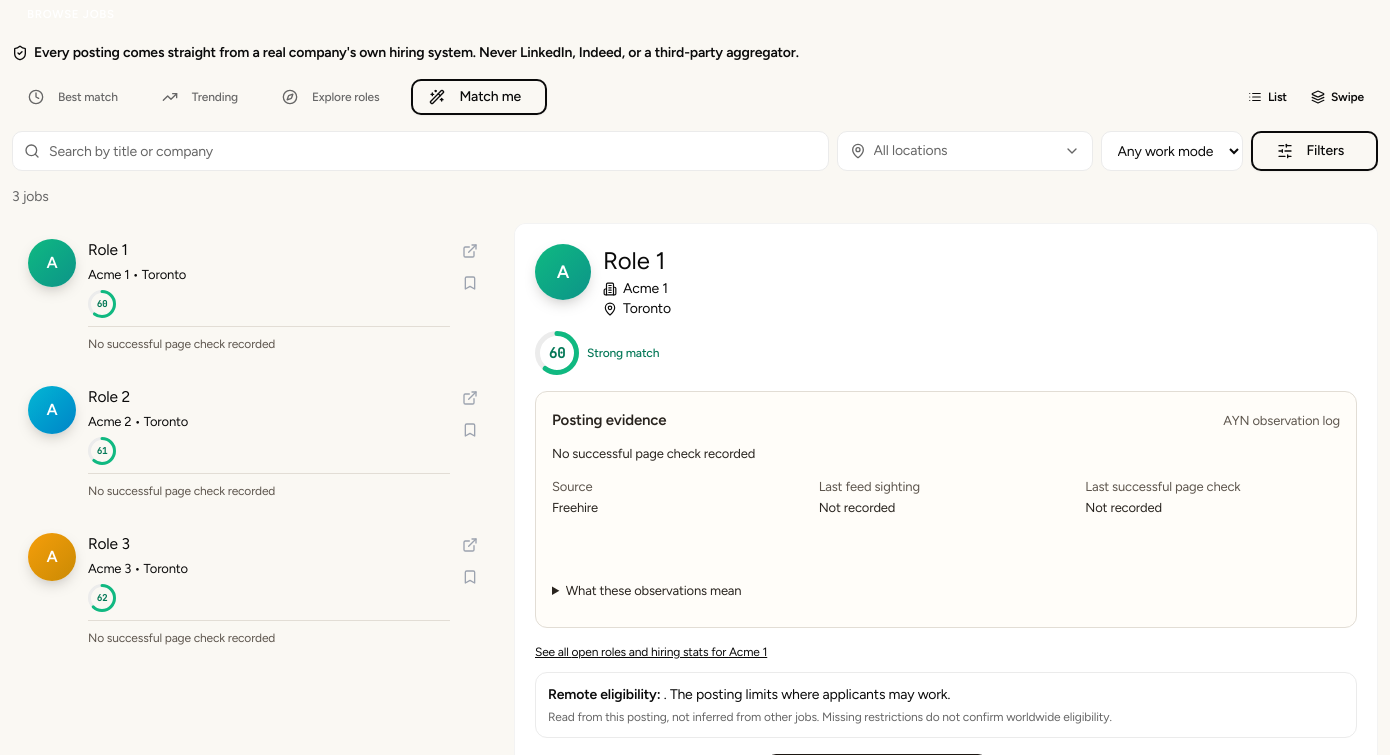
it: BrowseJobs list (real component, mocked backend) › location picker: opens, filters, and choosing a location re-queries with it
Click the button "All locations" at (964, 151), box [836,131,1092,171]
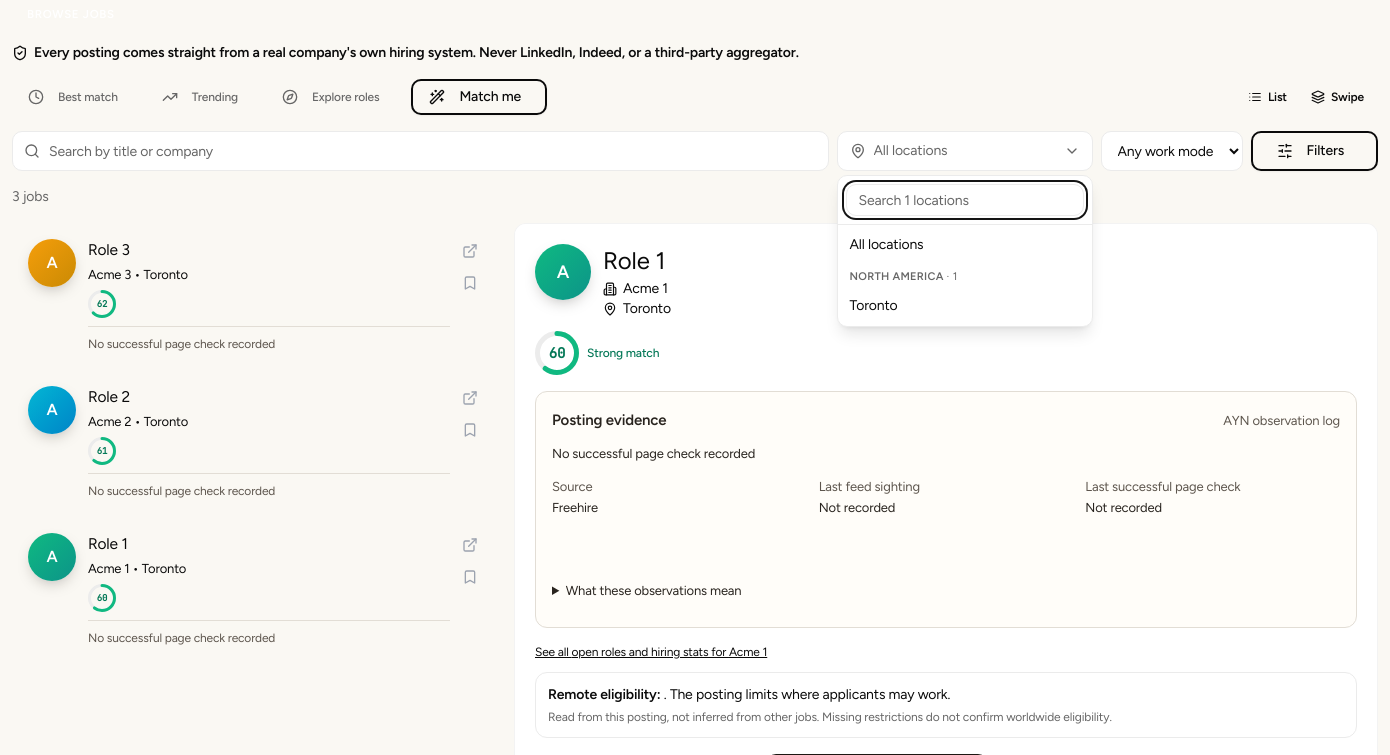
Type "nowhere" into the field with placeholder "Search 1 locations" at (964, 200), box [846,184,1084,216]
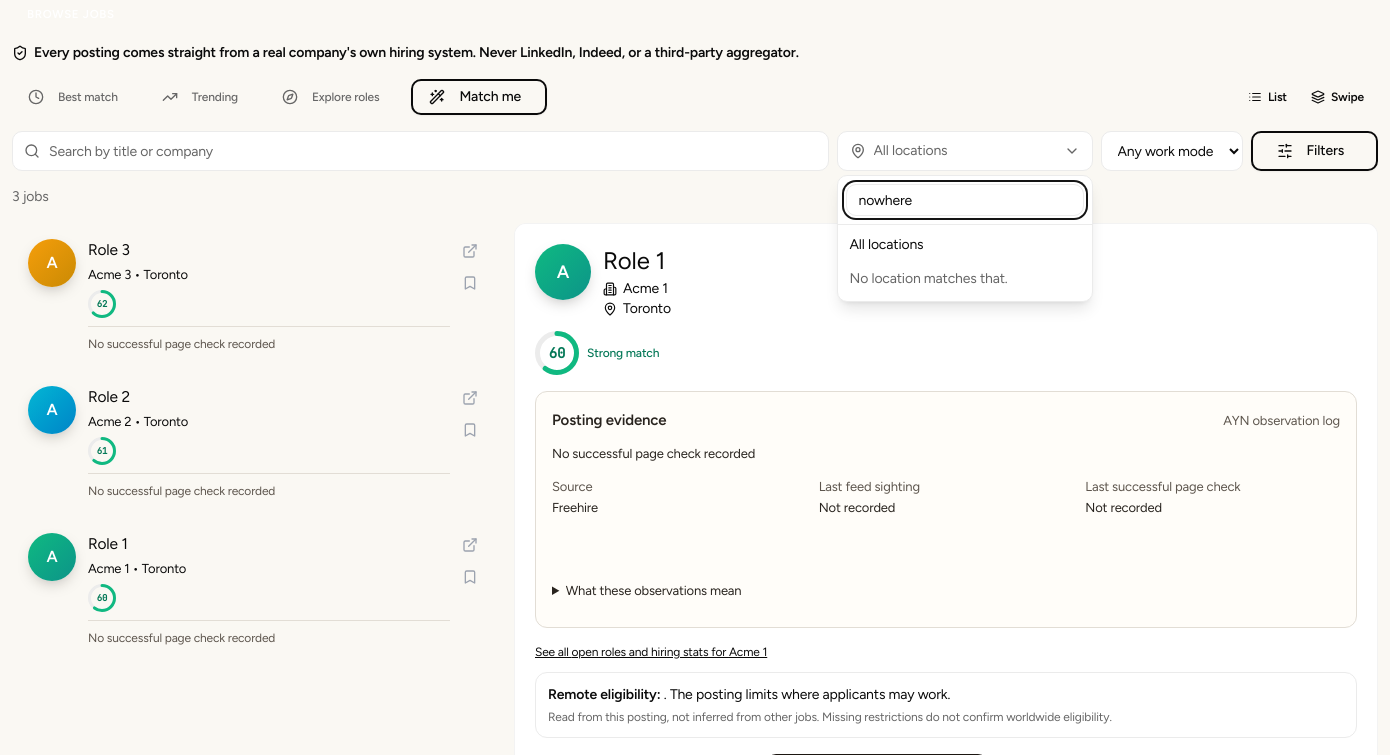
Result: the text "No location matches that." is shown at [850,270,1008,287]
Replace the text in the field with placeholder "Search 1 locations" with "tor" at (964, 200), box [846,184,1084,216]
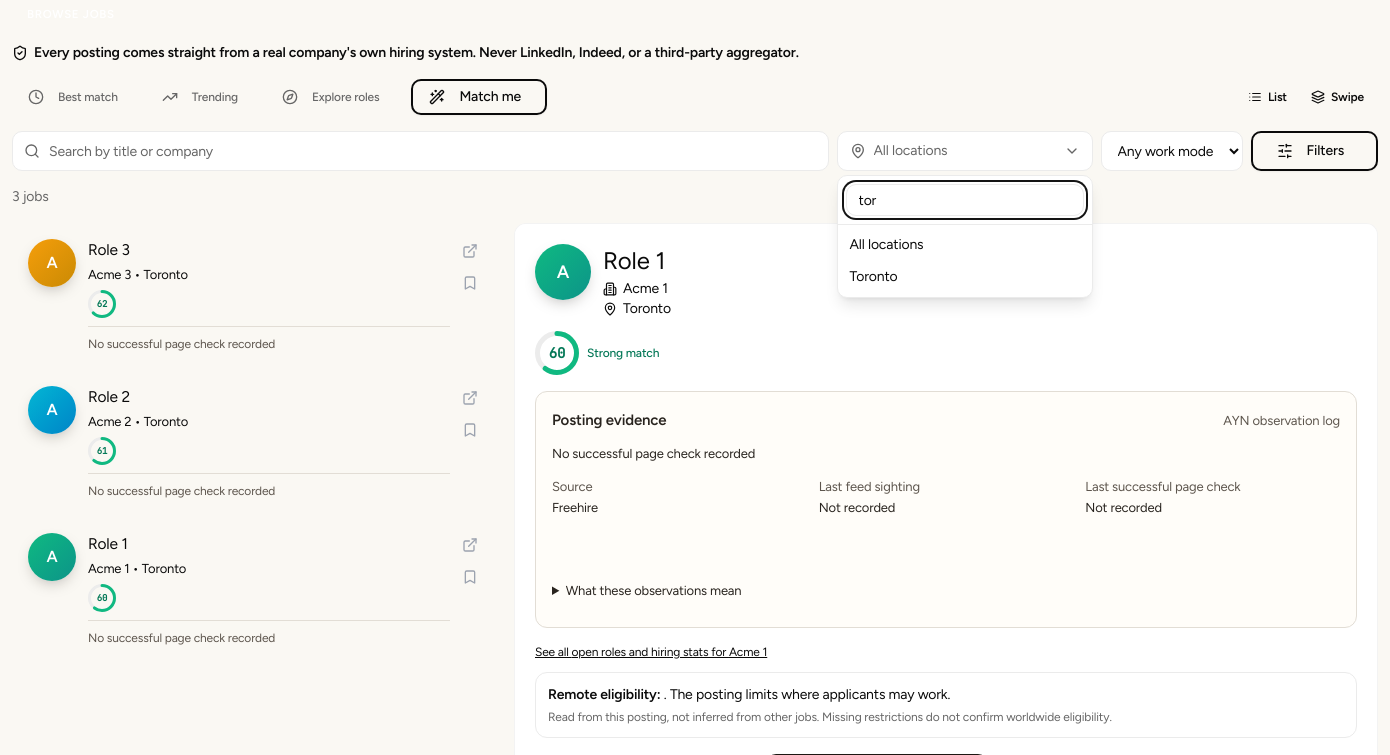
Click the button "Toronto" at (964, 277), box [838,261,1092,293]
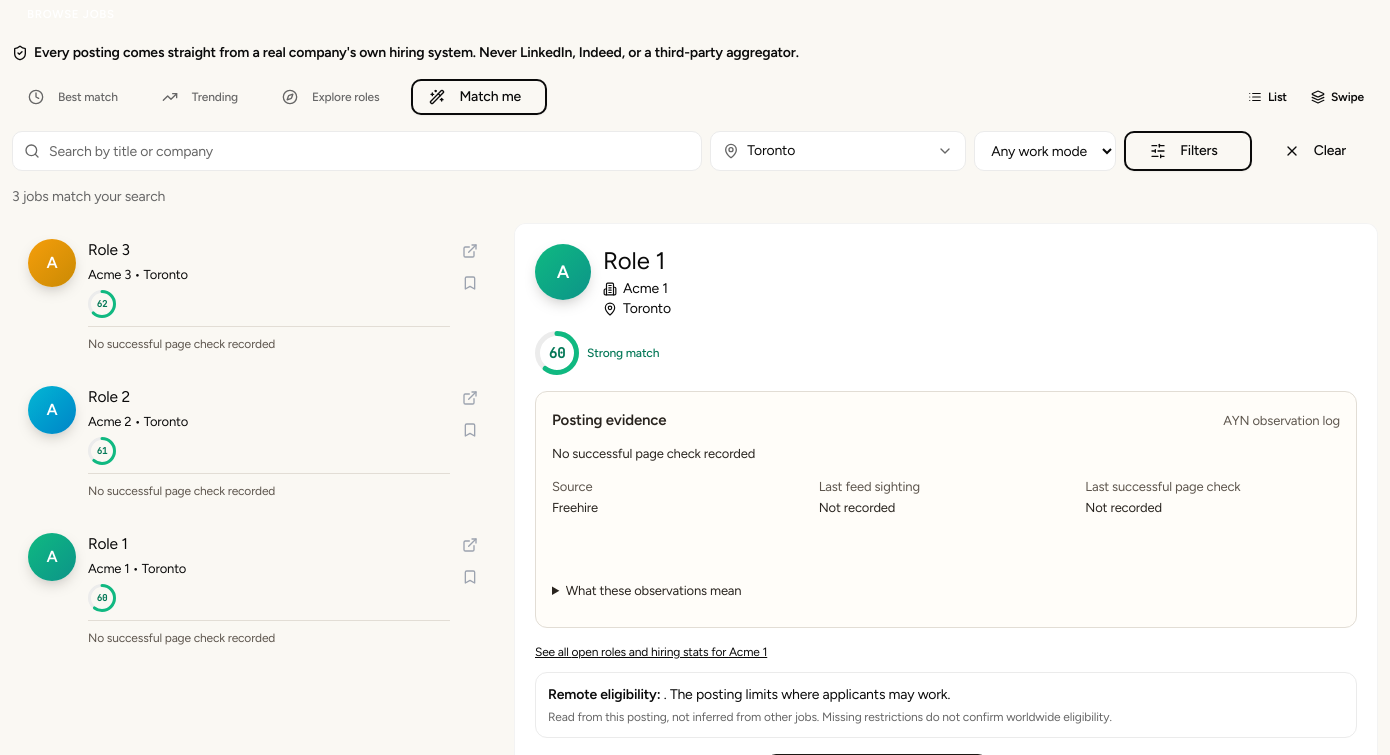
Result: the text "Toronto" is shown at [747,142,795,159]
